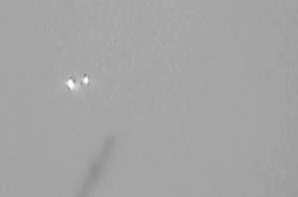Target: (68, 78, 89, 89)
